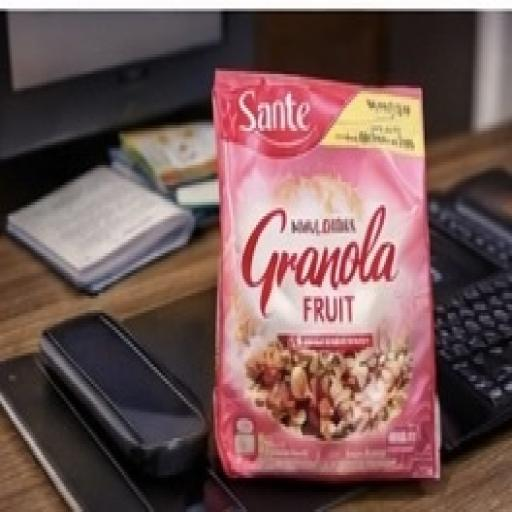granola: (181, 41, 468, 493)
